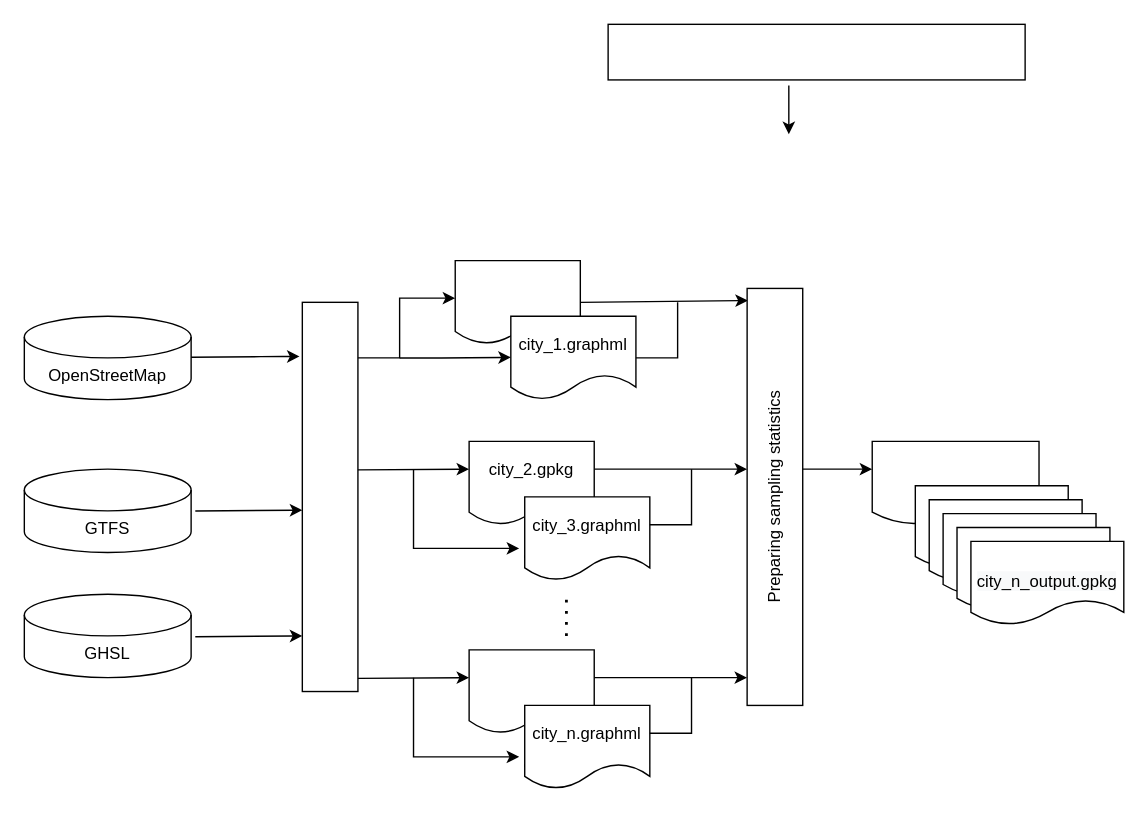
Image size: 1148x813. Some labels were removed from this diagram. The centre of each missing label's shape, as x and y in pixels:
city_1.gpkg: (x=517, y=301)
city_1_output.gpkg: (x=955, y=482)
city_n.gpkg: (x=531, y=690)
Pre-processing input data: (x=329, y=496)
Setup configuration files: (x=816, y=51)
